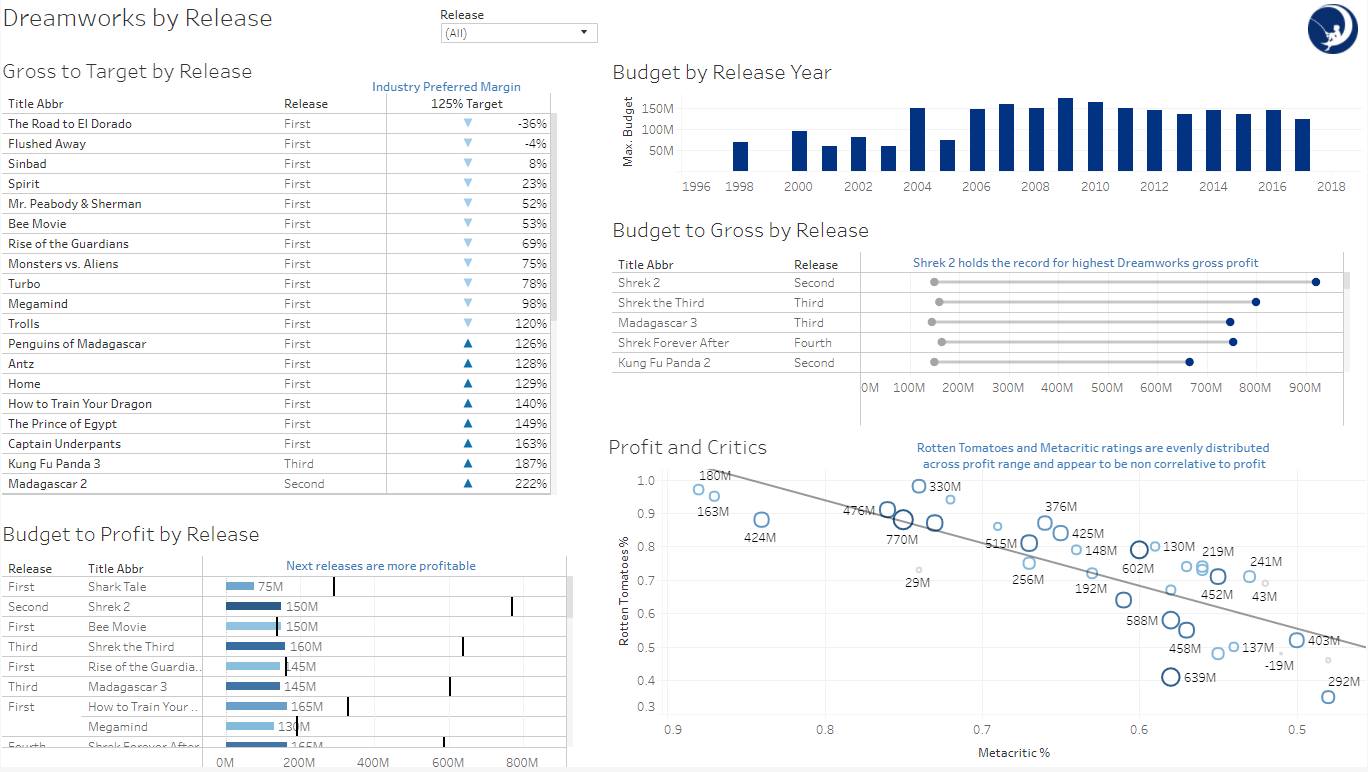

What the dashboard file says about the page in this screenshot:
{"tool":"tableau","page":{"name":"Dreamworks by Release","canvas":[1366,768],"ordinal":0},"visuals":[{"type":"title","box":[1,2,332,30]},{"type":"image","param":"Image/DreamworksIcon.jpg","box":[1307,5,56,50]},{"type":"filter","title":"Budget to Profit by Release","param":"[federated.0l3nwjx1fxw29f1bqxcs51e6uv2n (copy)].[none:Release Chronology (copy):","box":[439,7,159,42]},{"type":"worksheet","title":"Budget by Release Year","mark":"Bar","rows":["Budget"],"cols":["Release date"],"box":[607,48,758,158]},{"type":"worksheet","title":"Gross to Target by Release","mark":"Shape","rows":["Title Abbr","Release Chronology (copy)"],"cols":["Calculation_1356146440988438528"],"box":[1,51,573,445]},{"type":"text","box":[371,71,161,32]},{"type":"worksheet","title":"Budget to Gross by Release","mark":"Circle","rows":["Calculation_5608388913341952000","Title Abbr","Release Chronology (copy)"],"box":[607,206,758,221]},{"type":"text","box":[912,248,399,30]},{"type":"worksheet","title":"Profit and Critics","mark":"Automatic","rows":["Rotten Tomatoes (copy)"],"cols":["Calculation_403353644836683776"],"box":[607,427,758,341]},{"type":"text","box":[902,436,383,40]},{"type":"text","box":[285,551,195,30]},{"type":"text","box":[336,555,137,30]}]}

Visuals, with their boxes in screenshot pixels (x1, y1, x2, y2), scaled from the page's 1366x768 canvas onto the 1371x772 screenshot:
title: [x1=1, y1=2, x2=334, y2=32]
image: [x1=1312, y1=5, x2=1368, y2=55]
"Budget to Profit by Release" filter: [x1=441, y1=7, x2=600, y2=49]
"Budget by Release Year" worksheet (Bar marks): [x1=609, y1=48, x2=1370, y2=207]
"Gross to Target by Release" worksheet (Shape marks): [x1=1, y1=51, x2=576, y2=499]
text: [x1=372, y1=71, x2=534, y2=104]
"Budget to Gross by Release" worksheet (Circle marks): [x1=609, y1=207, x2=1370, y2=429]
text: [x1=915, y1=249, x2=1316, y2=279]
"Profit and Critics" worksheet: [x1=609, y1=429, x2=1370, y2=771]
text: [x1=905, y1=438, x2=1290, y2=478]
text: [x1=286, y1=554, x2=482, y2=584]
text: [x1=337, y1=558, x2=475, y2=588]
